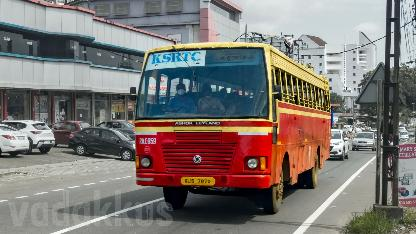bus: (127, 37, 337, 213)
